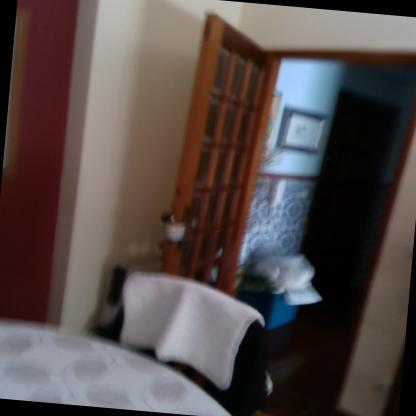open: (151, 8, 415, 415)
